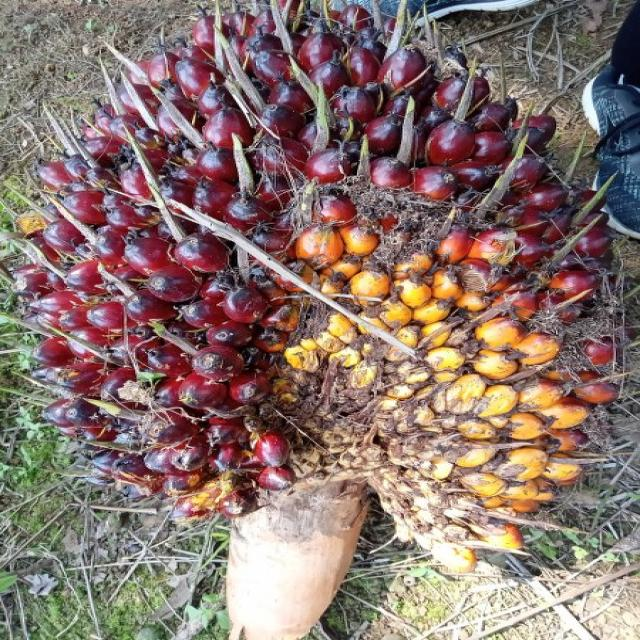fraksi 1: (41, 36, 591, 570)
